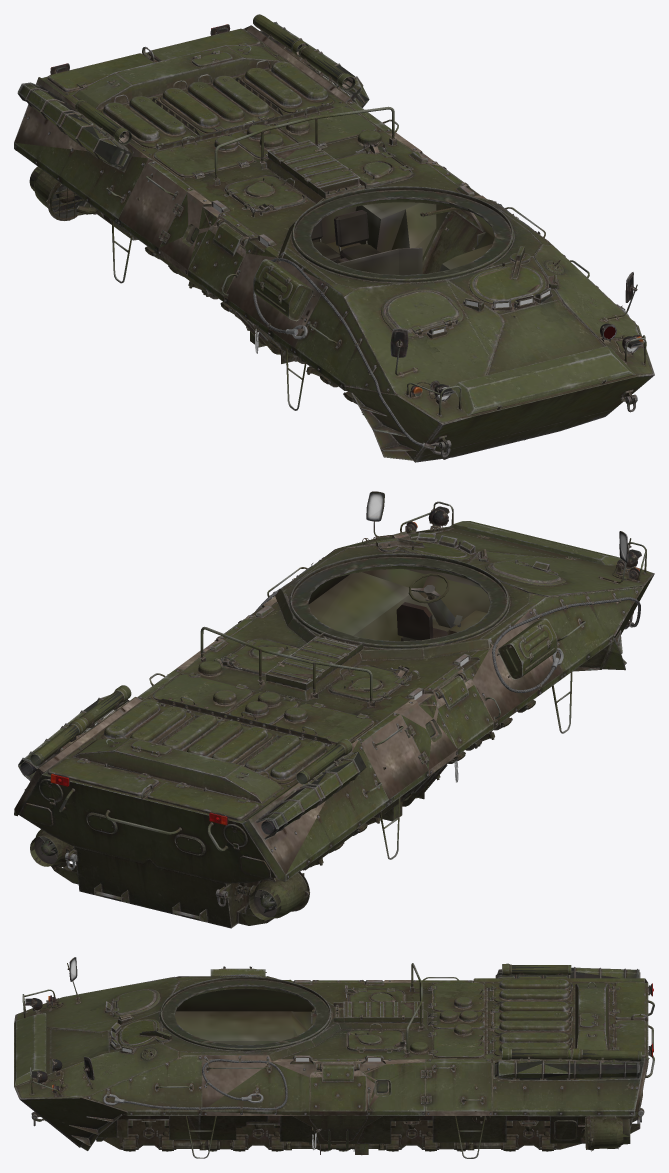
The model's file is hullbtr2.obj.
3 renders of one model, top to bottom at view 1: azimuth 30°, elevation 25°; view 2: azimuth 150°, elevation 25°; view 3: azimuth 270°, elevation 25°, orthographic. The views are drawn at different scales.
Visible parts, largest first — view 1: vehicle#@root_0, vehicle#breakwater_149, vehicle#hatch_12_38, vehicle#hatch_13_37, vehicle#hatch_06_34, vehicle#hatch_11_28, vehicle#hatch_16_27, vehicle#hatch_14_25, vehicle#ex_decor_02_148, vehicle#ex_decor_03_147, vehicle#hatch_03_33, vehicle#hatch_01_32 (+10 smaller); view 2: vehicle#@root_0, vehicle#hatch_12_38, vehicle#hatch_06_34, vehicle#hatch_16_27, vehicle#hatch_14_25, vehicle#hatch_11_28, vehicle#hatch_13_37, vehicle#ex_decor_02_148, vehicle#hatch_18_36, vehicle#hatch_17_29, vehicle#ex_decor_03_147, vehicle#breakwater_149 (+9 smaller); view 3: vehicle#@root_0, vehicle#hatch_08_41, vehicle#hatch_12_38, vehicle#breakwater_149, vehicle#hatch_11_28, vehicle#hatch_14_25, vehicle#ex_decor_l_04_144, vehicle#hatch_16_27, vehicle#hatch_13_37, vehicle#hatch_07_42, vehicle#ex_decor_03_147, vehicle#hatch_18_36 (+10 smaller).
Part boxes in pixels (x1,y1,x2,y2): vehicle#@root_0: [14, 21, 654, 462]; vehicle#breakwater_149: [453, 346, 635, 415]; vehicle#hatch_12_38: [160, 74, 274, 133]; vehicle#hatch_13_37: [242, 60, 332, 113]; vehicle#hatch_06_34: [188, 222, 245, 302]; vehicle#hatch_11_28: [101, 94, 191, 147]; vehicle#hatch_16_27: [153, 135, 253, 177]; vehicle#hatch_14_25: [276, 106, 376, 146]; vehicle#ex_decor_02_148: [253, 259, 314, 321]; vehicle#ex_decor_03_147: [267, 140, 360, 188]; vehicle#hatch_03_33: [386, 291, 458, 333]; vehicle#hatch_01_32: [473, 246, 542, 300]; vehicle#@root_0: [14, 525, 654, 928]; vehicle#hatch_12_38: [162, 714, 272, 763]; vehicle#hatch_06_34: [436, 675, 493, 754]; vehicle#hatch_16_27: [274, 703, 373, 743]; vehicle#hatch_14_25: [152, 672, 251, 713]; vehicle#hatch_11_28: [244, 734, 330, 784]; vehicle#hatch_13_37: [101, 700, 190, 743]; vehicle#ex_decor_02_148: [496, 618, 557, 679]; vehicle#hatch_18_36: [147, 782, 258, 820]; vehicle#hatch_17_29: [48, 758, 158, 796]; vehicle#ex_decor_03_147: [265, 636, 357, 684]; vehicle#breakwater_149: [449, 521, 620, 565]; vehicle#@root_0: [14, 963, 654, 1158]; vehicle#hatch_08_41: [310, 1064, 366, 1115]; vehicle#hatch_12_38: [492, 1001, 572, 1033]; vehicle#breakwater_149: [14, 1013, 46, 1085]; vehicle#hatch_11_28: [492, 979, 572, 1002]; vehicle#hatch_14_25: [430, 1024, 484, 1057]; vehicle#ex_decor_l_04_144: [502, 1048, 641, 1062]; vehicle#hatch_16_27: [430, 982, 484, 1011]; vehicle#hatch_13_37: [492, 1032, 572, 1056]; vehicle#hatch_07_42: [310, 1116, 366, 1150]; vehicle#ex_decor_03_147: [343, 1001, 423, 1017]; vehicle#hatch_18_36: [612, 982, 645, 1019].
Bounding box in the file's own units: 3.22 × 1.99 × 8.13.
